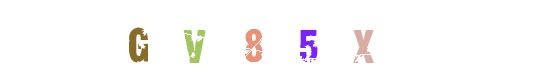5: (251, 0, 331, 80)
8: (228, 0, 308, 80)
G: (97, 0, 177, 80)
V: (150, 0, 230, 80)
X: (268, 0, 348, 80)
